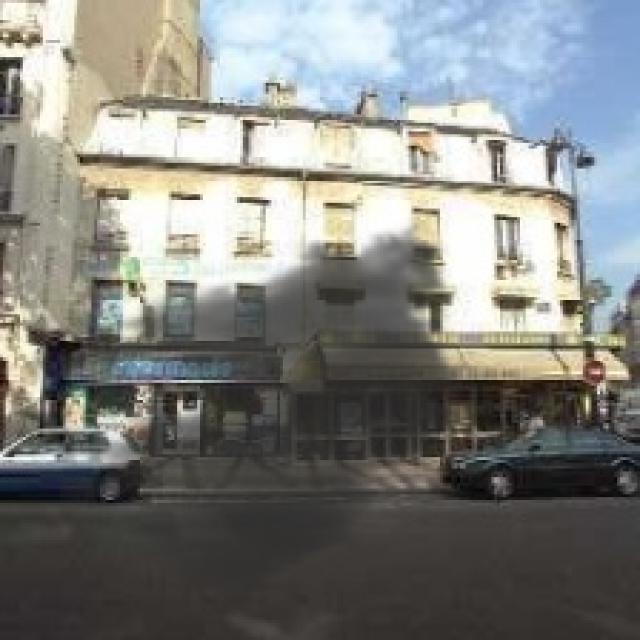smoke: (60, 212, 483, 614)
